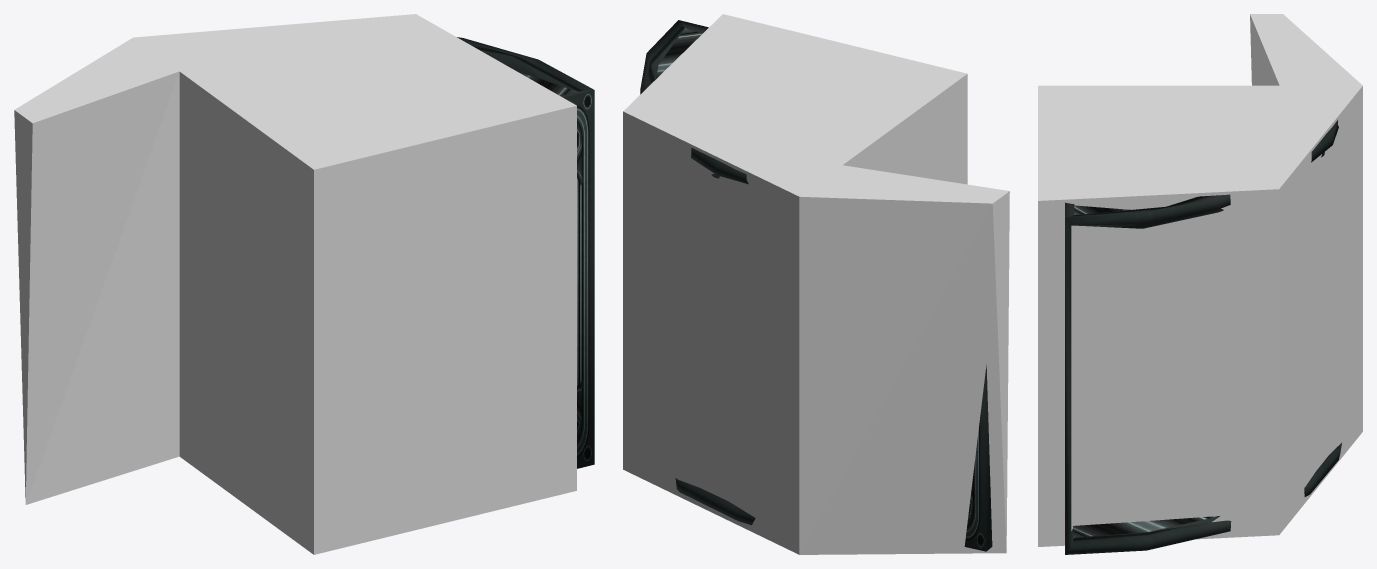
The model's file is CargoContainerOpen1DoorLOD.fbx.
3 views of the same model, side by side, from view 1: azimuth 30°, elevation 25°; view 2: azimuth 150°, elevation 25°; view 3: azimuth 270°, elevation 25° (orthographic). The views are drawn at different scales.
Parts seen in each view (by area): view 1: CargoContainerOpen1DoorCollMesh, CargoContainterOpen1Door_LOD0; view 2: CargoContainerOpen1DoorCollMesh, CargoContainterOpen1Door_LOD0; view 3: CargoContainerOpen1DoorCollMesh, CargoContainterOpen1Door_LOD0.
Part boxes in pixels (x1,y1,x2,y2): CargoContainerOpen1DoorCollMesh: [14, 14, 576, 554]; CargoContainterOpen1Door_LOD0: [25, 37, 594, 486]; CargoContainerOpen1DoorCollMesh: [623, 14, 1009, 554]; CargoContainterOpen1Door_LOD0: [640, 20, 992, 551]; CargoContainerOpen1DoorCollMesh: [1038, 14, 1362, 546]; CargoContainterOpen1Door_LOD0: [1065, 120, 1341, 554].
Size of what is drawn, in the model's own units: 295 by 235 by 200.
